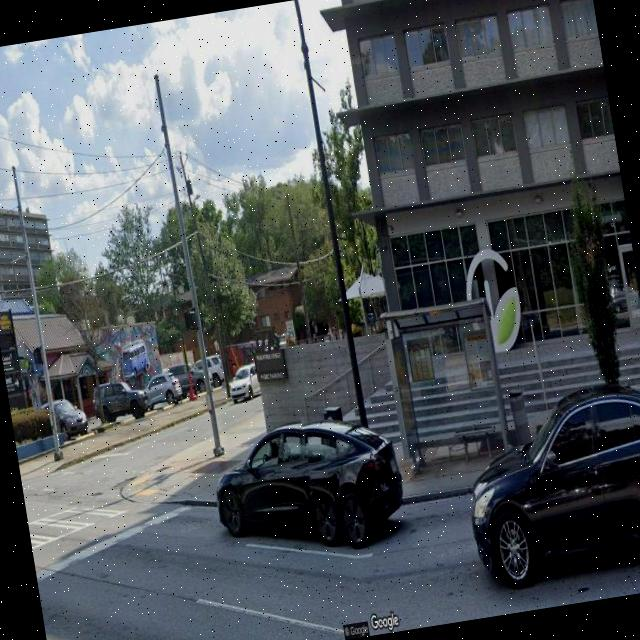seating: (453, 420, 500, 462)
shelter: (380, 298, 512, 473)
trash_can: (508, 390, 532, 450)
